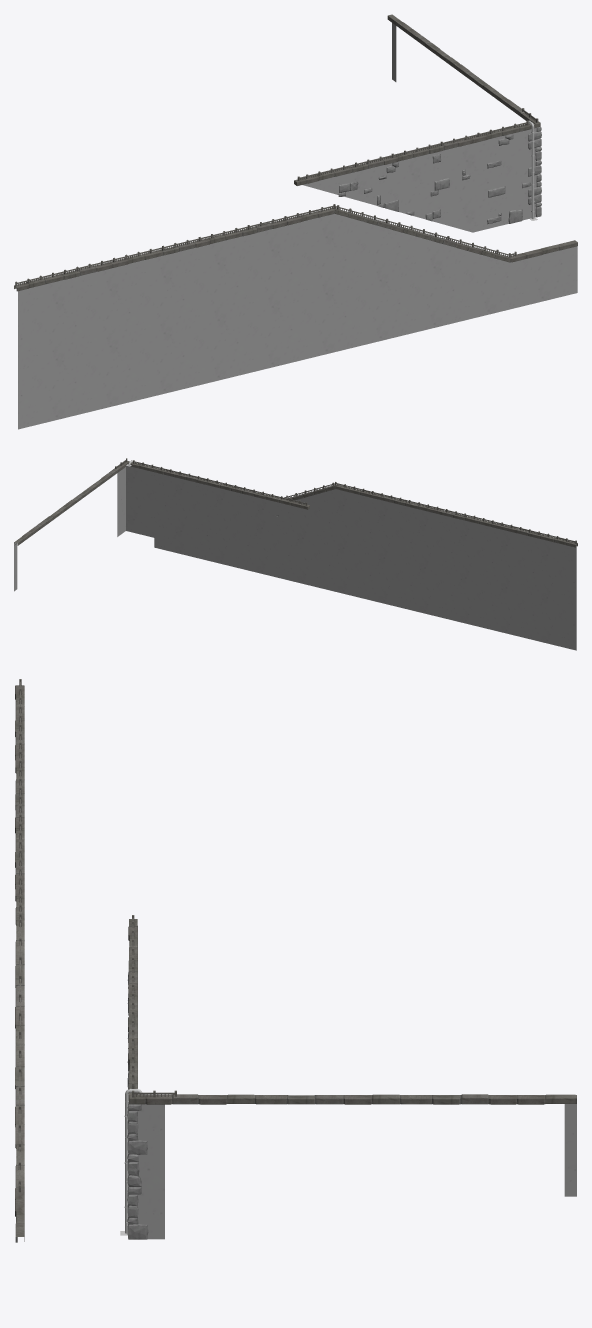
The model's file is SM_ENV_KNVLLG_Wall_09.mo.fbx.
3 renders of one model, top to bottom at view 1: azimuth 30°, elevation 25°; view 2: azimuth 150°, elevation 25°; view 3: azimuth 270°, elevation 25°, orthographic. The views are drawn at different scales.
Parts seen in each view (by area): view 1: SM_ENV_KNVLLG_Wall_09.mo; view 2: SM_ENV_KNVLLG_Wall_09.mo; view 3: SM_ENV_KNVLLG_Wall_09.mo.
Boxes of the visible parts, x1,y1,x2,y2 form: SM_ENV_KNVLLG_Wall_09.mo: (14,14,577,429); SM_ENV_KNVLLG_Wall_09.mo: (14,458,577,650); SM_ENV_KNVLLG_Wall_09.mo: (15,679,576,1242).
Bounding box in the file's own units: 83.37 × 20.78 × 47.8.
